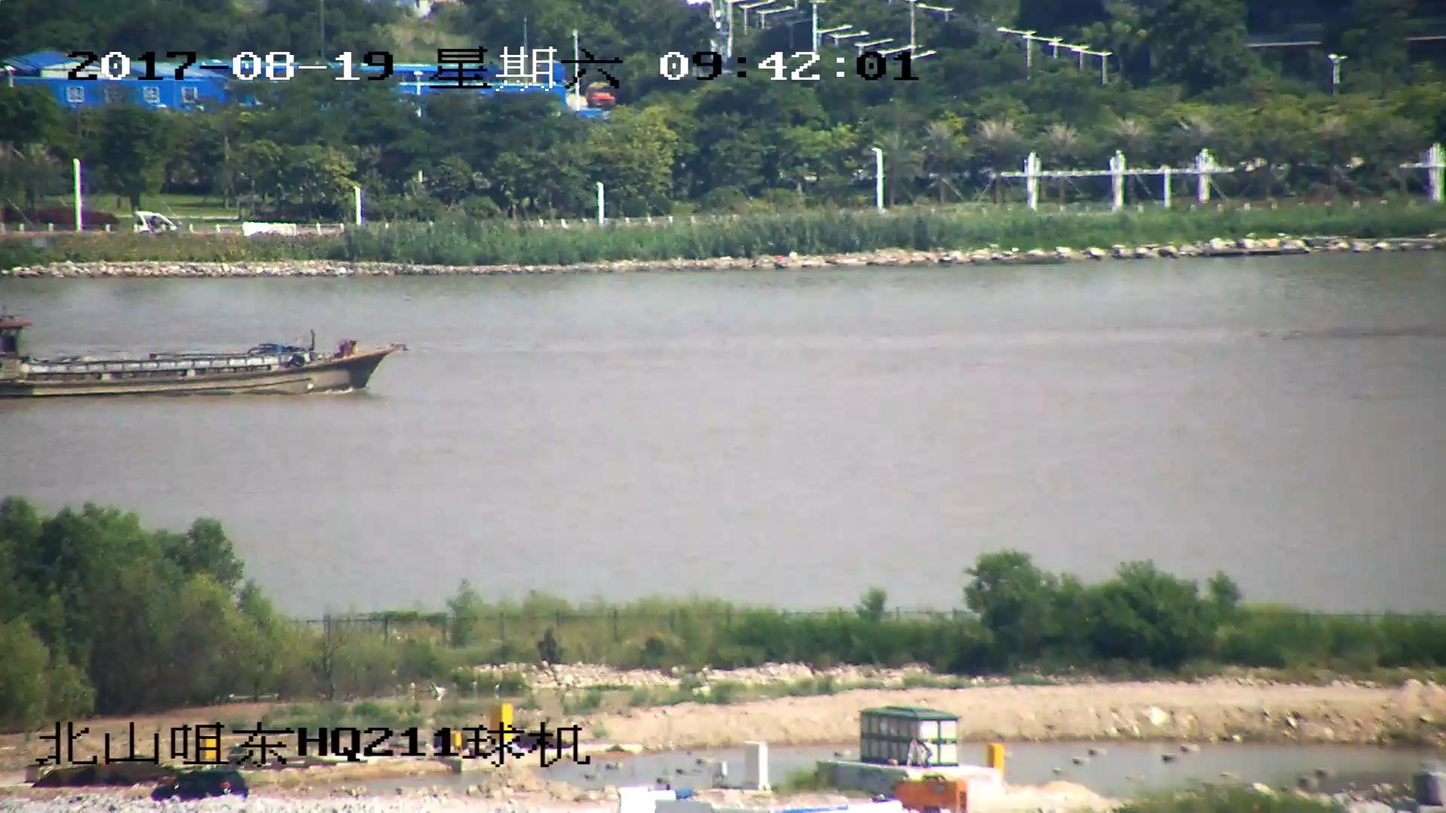fishing boat: (0, 313, 398, 399)
